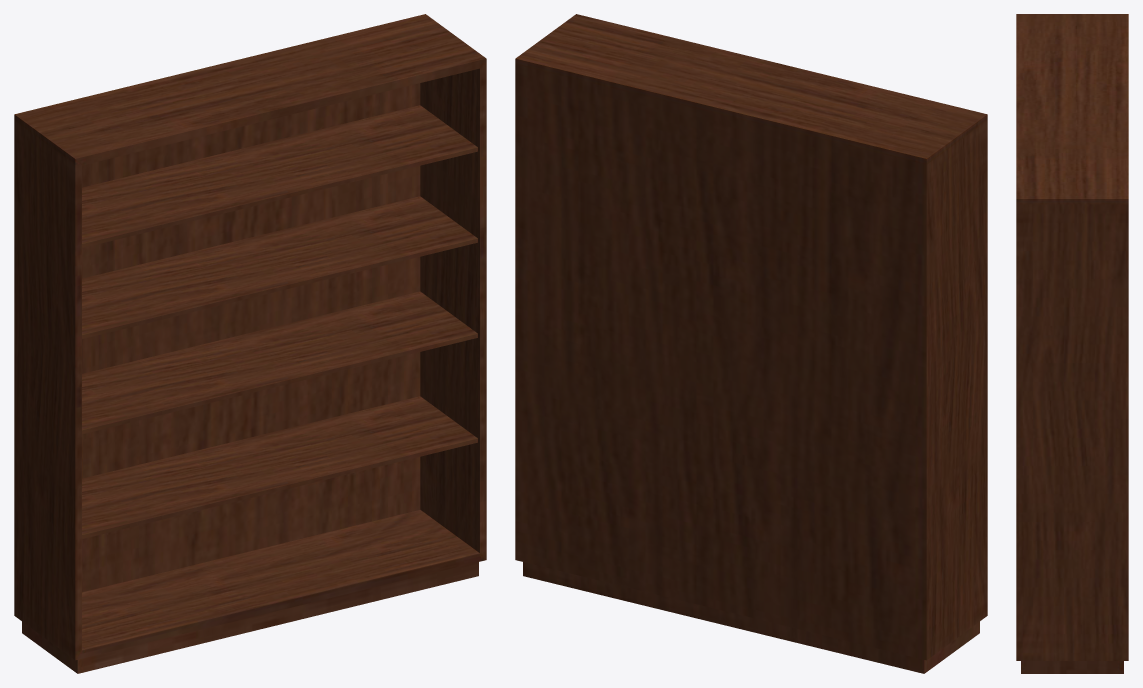
File: BookcaseL_vi.fbx
3 renders of one model, left to right at view 1: azimuth 30°, elevation 25°; view 2: azimuth 150°, elevation 25°; view 3: azimuth 270°, elevation 25°, orthographic. The views are drawn at different scales.
Visible parts, largest first — view 1: BookcaseL; view 2: BookcaseL; view 3: BookcaseL.
Part boxes in pixels (x1,y1,x2,y2): BookcaseL: (14,14,486,673); BookcaseL: (515,14,987,673); BookcaseL: (1016,14,1128,673).
Size of the model in its own units: 0.0311 by 0.0374 by 0.00799.
1 material, 1 textured.
